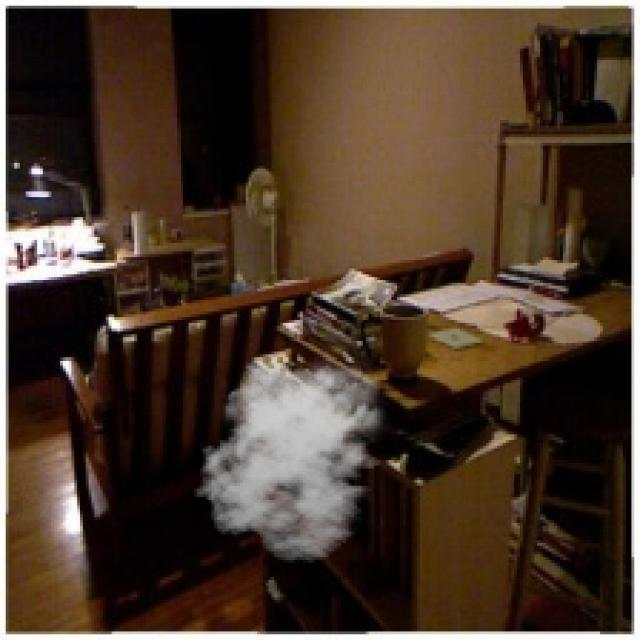Smoke: (194, 351, 394, 563)
